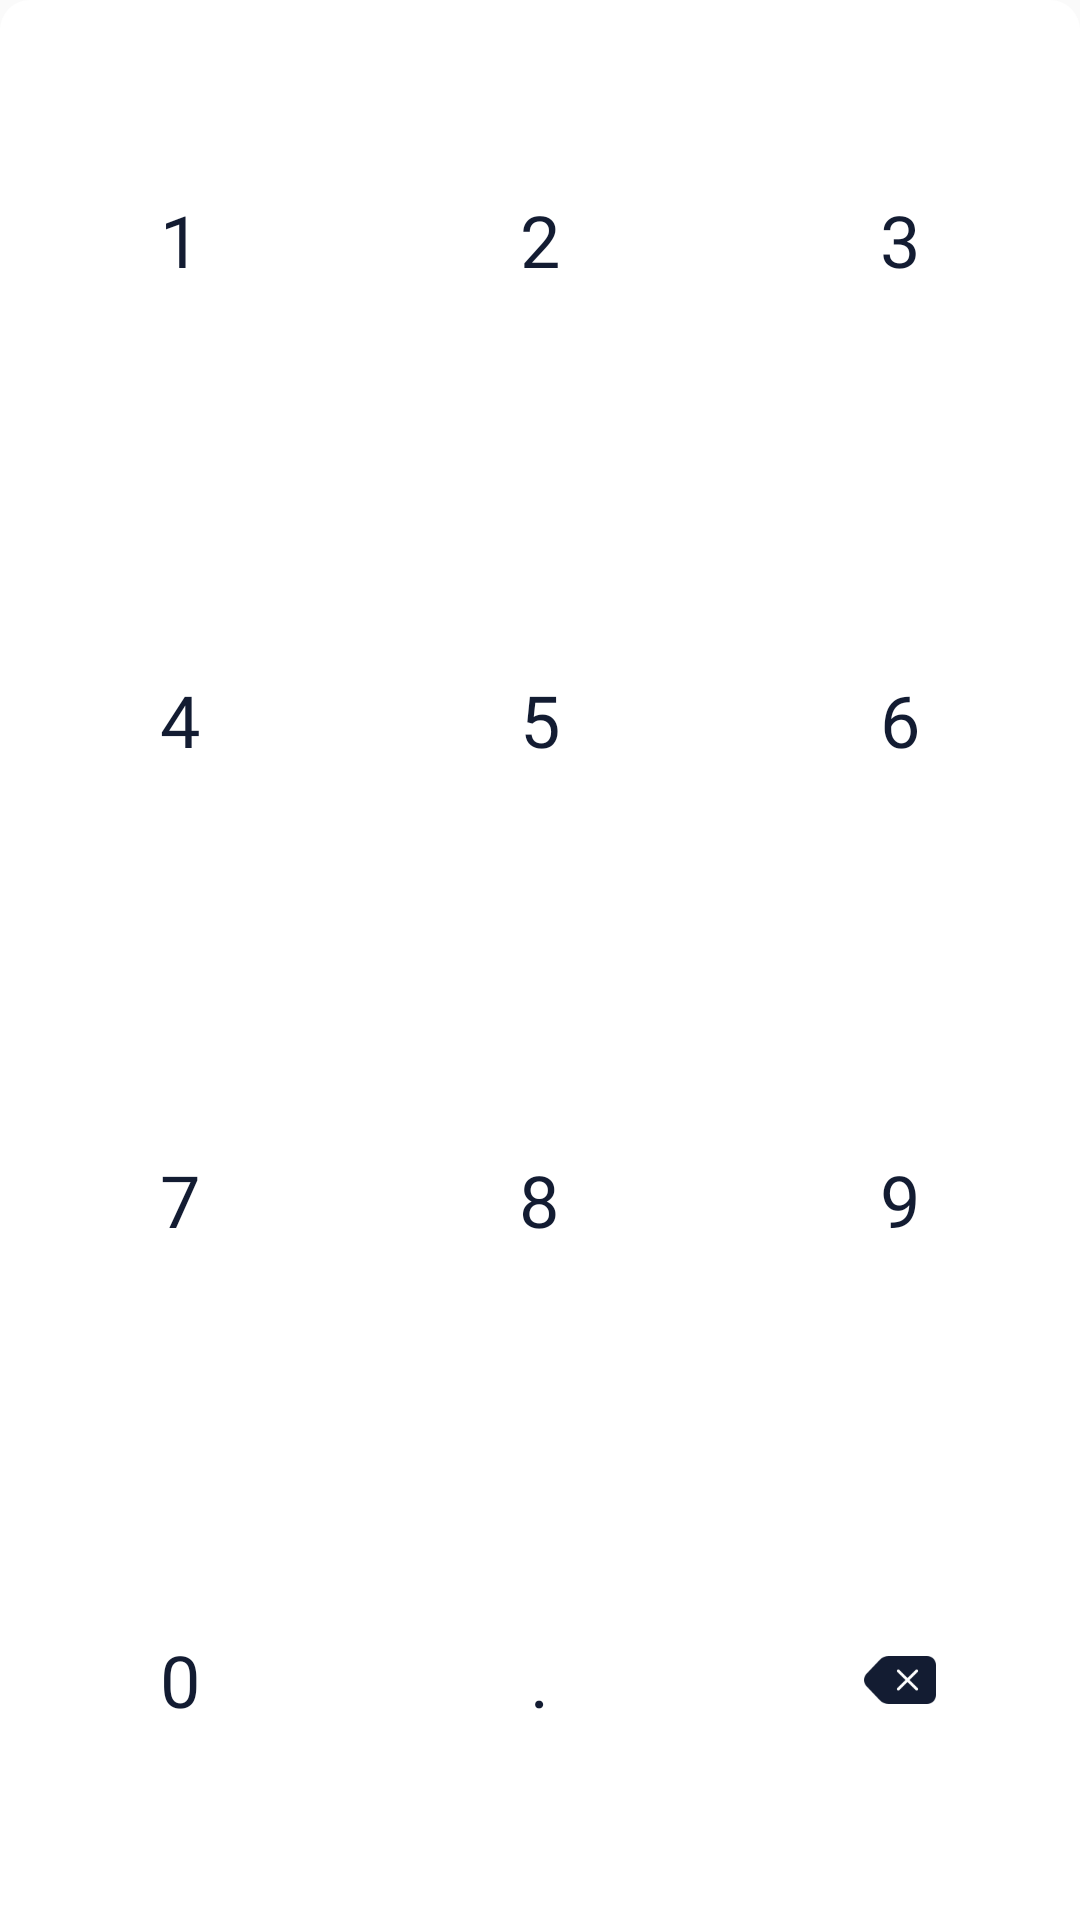

Screen size 1080px x 1920px. Icon name, then its box in pixels as [x1=x1, y1=y1, x2=x2, y2=y2]:
keyboard backspace: [x1=864, y1=1656, x2=936, y2=1704]
